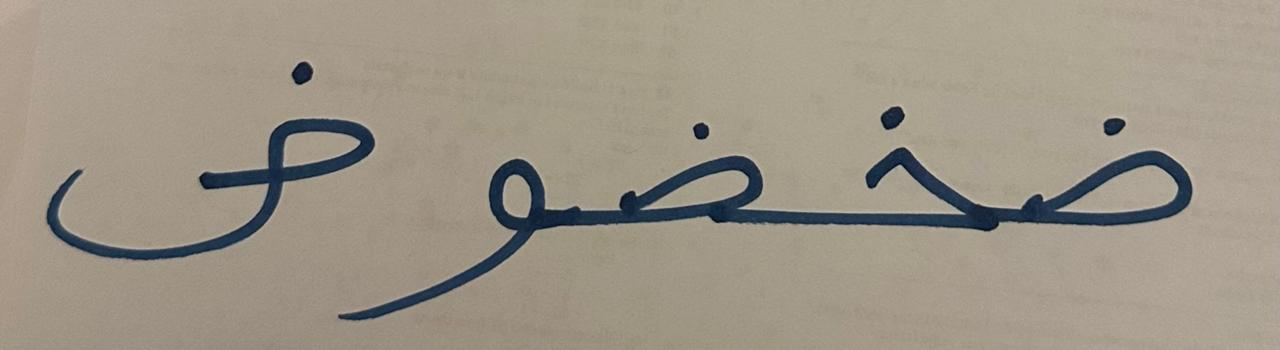dad: (27, 16, 384, 290), (1014, 58, 1234, 286), (589, 68, 804, 283)
lam: (808, 36, 1009, 287)
yeh: (387, 105, 584, 316)
